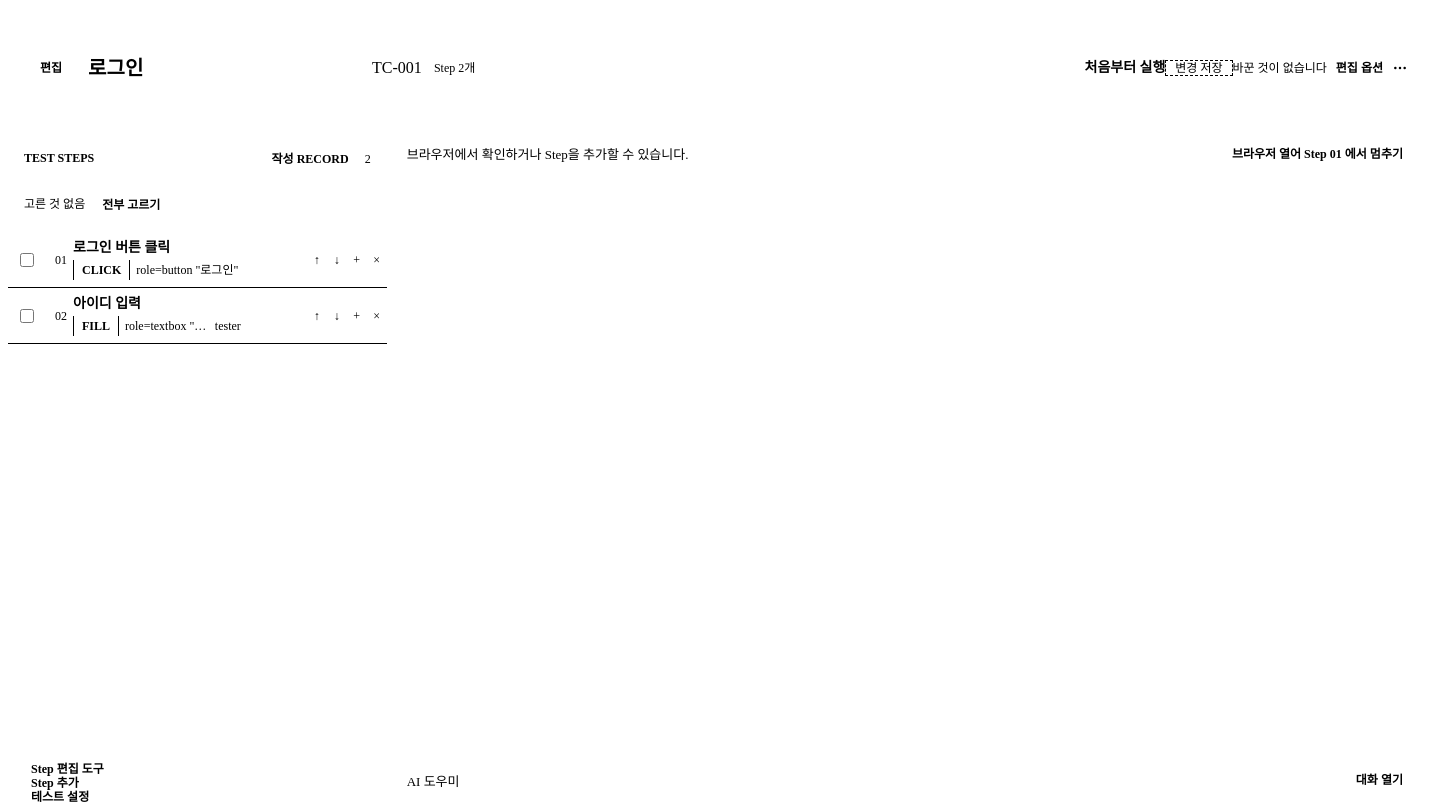
Scenario: FR-386 — 편집의 복수 삭제는 되돌릴 수 있다 › 확인에 「되돌릴 수 없습니다」가 붙지 않는다
Click the checkbox named "로그인 버튼 클릭 지울 대상으로 고르기" at (27, 260), box left=20, top=252, right=34, bottom=266
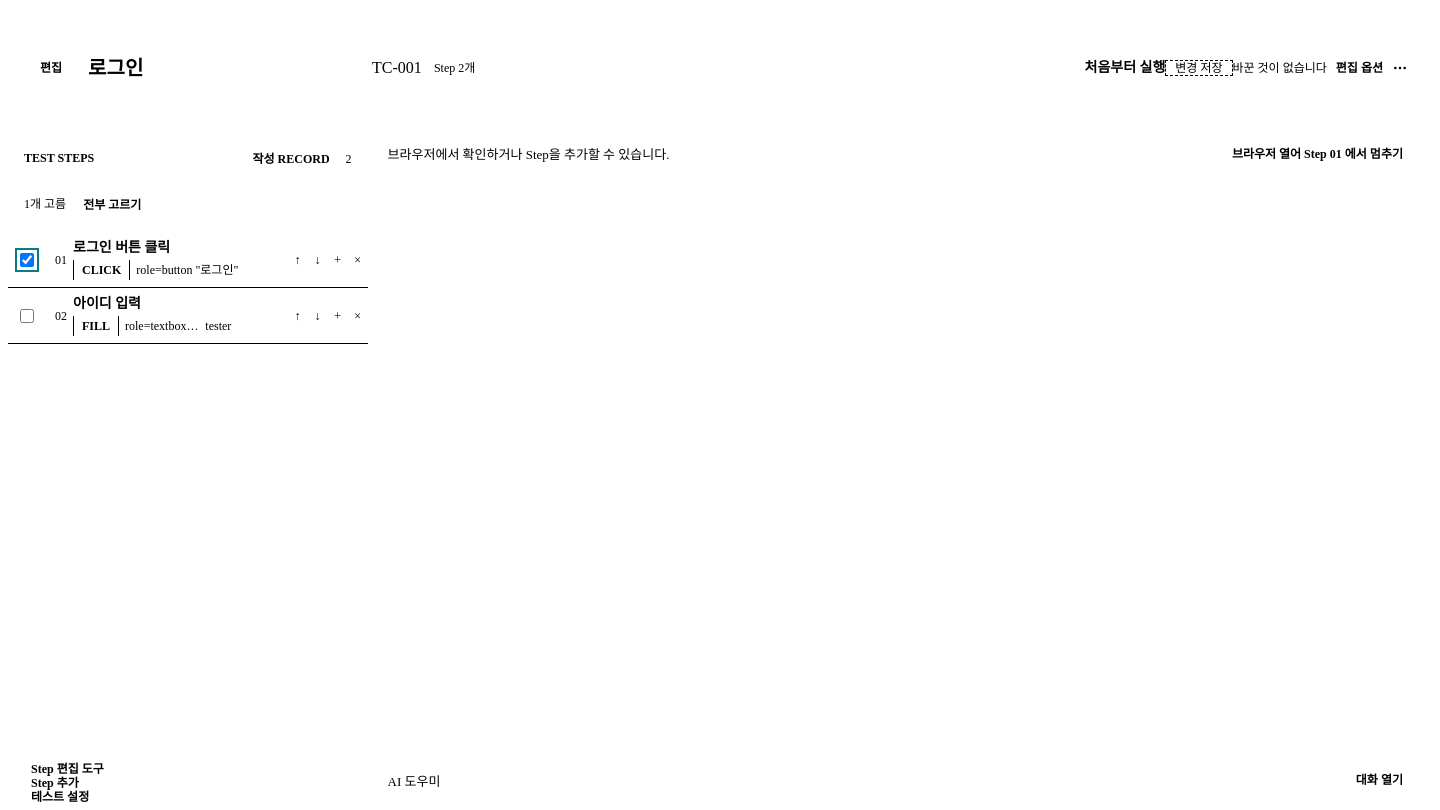
Click the button "Step 편집 도구" at (67, 769), box left=22, top=762, right=113, bottom=776
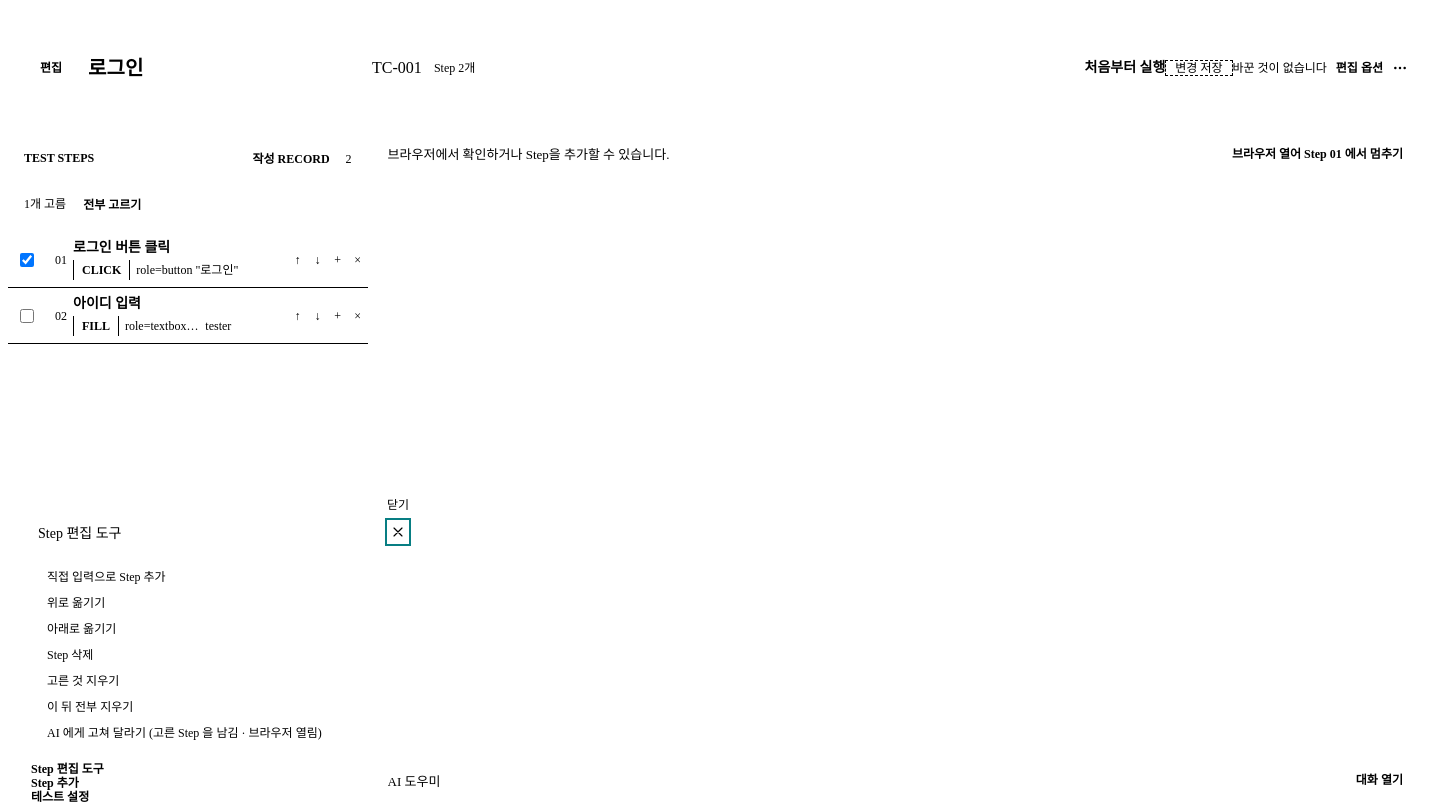
Click the button "고른 것 지우기" at (83, 681), box left=38, top=674, right=128, bottom=688
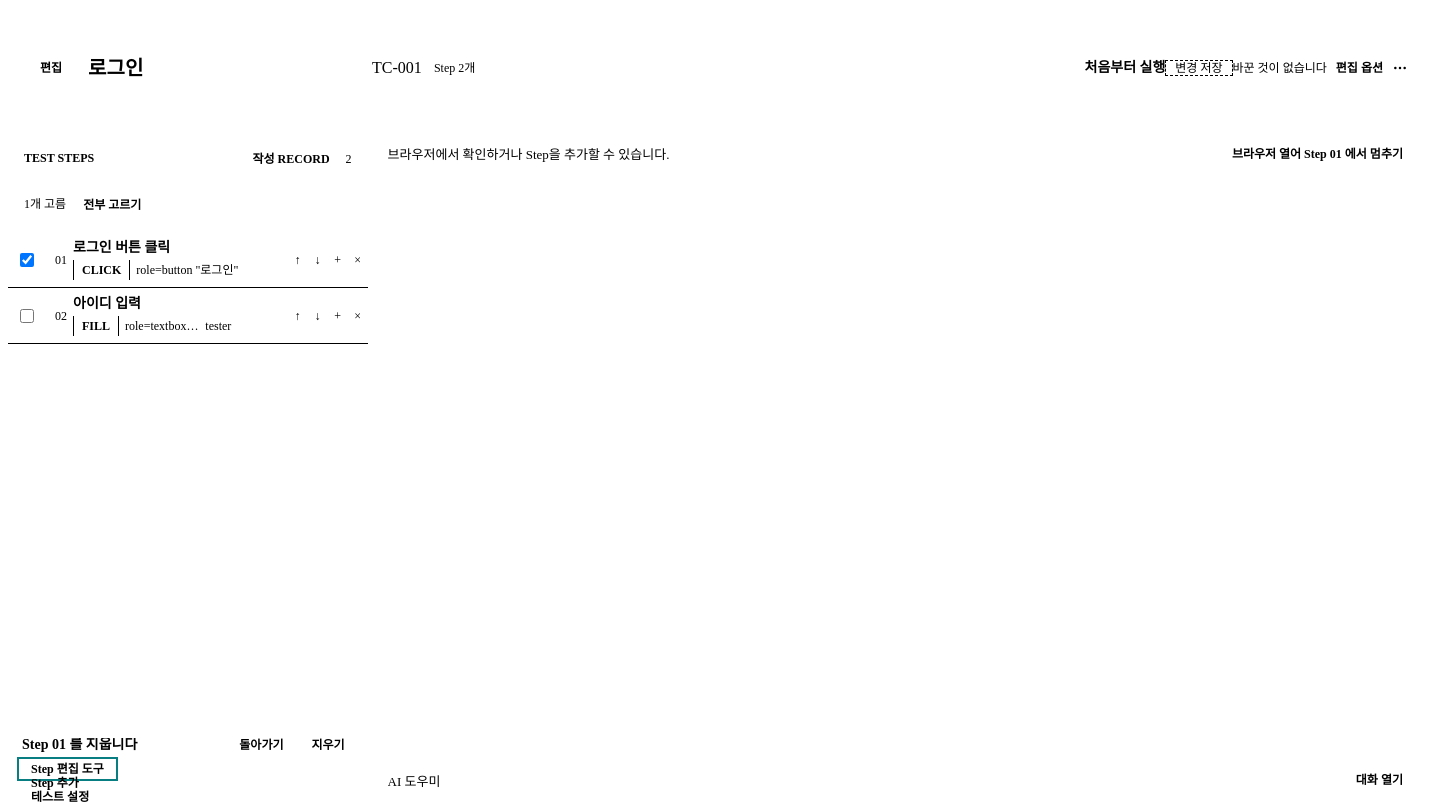
Expected: the message "Step 01 를 지웁니다 돌아가기 지우기" is shown, left=22, top=738, right=354, bottom=752
